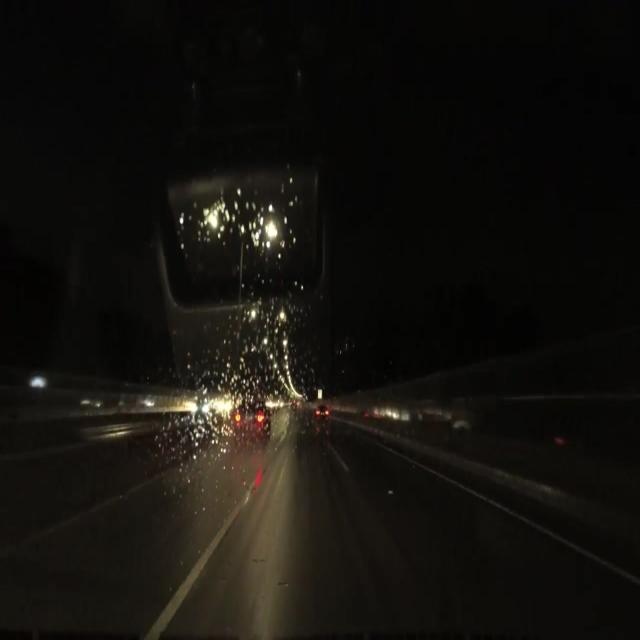Car: (230, 396, 271, 448)
